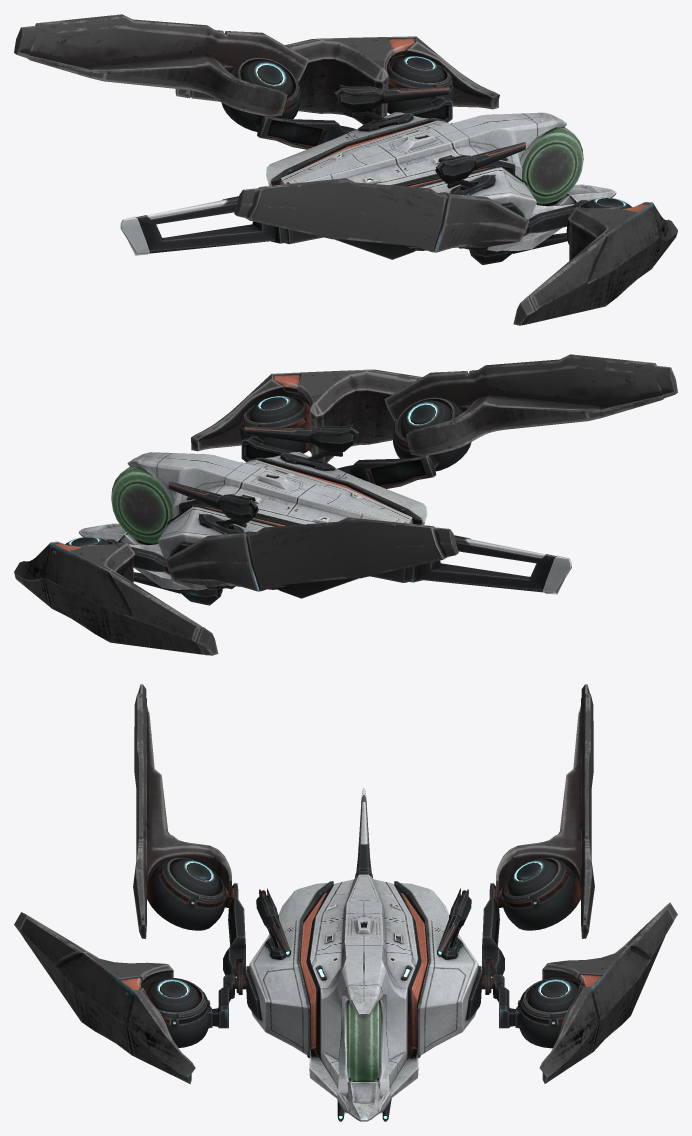
The model's file is space.glb.
The picture shows the model from 3 angles, top to bottom: view 1: azimuth 30°, elevation 25°; view 2: azimuth 150°, elevation 25°; view 3: azimuth 270°, elevation 25°; orthographic projection.
Parts seen in each view (by area): view 1: MainBody_low, BackWing_low, BackWing2_low, FrontWing2_low, FrontWing_low, Tail_low, Cabin_low, TurbineBack_low, TurbineFront_low, BackMovement_low, TopGun1_low, TopGun2_low (+5 smaller); view 2: MainBody_low, BackWing2_low, BackWing_low, FrontWing_low, FrontWing2_low, Tail_low, Cabin_low, TurbineFront2_low, TurbineBack2_low, BackMovement2_low, TopGun2_low, TopGun1_low (+4 smaller); view 3: MainBody_low, FrontWing2_low, FrontWing_low, BackWing_low, BackWing2_low, TurbineBack_low, TurbineBack2_low, TurbineFront2_low, TurbineFront_low, Cabin_low, BackMovement_low, BackMovement2_low (+6 smaller).
Part boxes in pixels (x1,y1,x2,y2): MainBody_low: (266, 112, 616, 259); BackWing_low: (14, 14, 308, 116); BackWing2_low: (234, 178, 529, 252); FrontWing2_low: (513, 202, 677, 325); FrontWing_low: (175, 36, 499, 124); Tail_low: (120, 196, 323, 255); Cabin_low: (522, 127, 583, 205); TurbineBack_low: (221, 57, 300, 131); TurbineFront_low: (386, 56, 454, 113); BackMovement_low: (254, 115, 356, 149); TopGun1_low: (334, 85, 450, 126); TopGun2_low: (435, 142, 525, 189); MainBody_low: (78, 452, 427, 598); BackWing2_low: (384, 354, 677, 456); BackWing_low: (165, 517, 458, 591); FrontWing_low: (14, 541, 218, 655); FrontWing2_low: (191, 369, 422, 462); Tail_low: (370, 535, 571, 594); Cabin_low: (111, 466, 172, 544); TurbineFront2_low: (240, 396, 312, 453); TurbineBack2_low: (393, 397, 471, 471); BackMovement2_low: (337, 455, 438, 488); TopGun2_low: (244, 424, 358, 465); TopGun1_low: (168, 481, 258, 528); MainBody_low: (245, 874, 482, 1121); FrontWing2_low: (14, 912, 195, 1084); FrontWing_low: (539, 902, 677, 1083); BackWing_low: (496, 684, 594, 938); BackWing2_low: (133, 684, 231, 938); TurbineBack_low: (500, 857, 580, 930); TurbineBack2_low: (147, 857, 227, 930); TurbineFront2_low: (142, 977, 210, 1047); TurbineFront_low: (517, 977, 581, 1048); Cabin_low: (347, 1002, 380, 1081); BackMovement_low: (482, 883, 504, 977); BackMovement2_low: (223, 883, 245, 978).
Bounding box in the file's own units: 12.85 × 5.76 × 14.93.
1 material, 1 textured.
